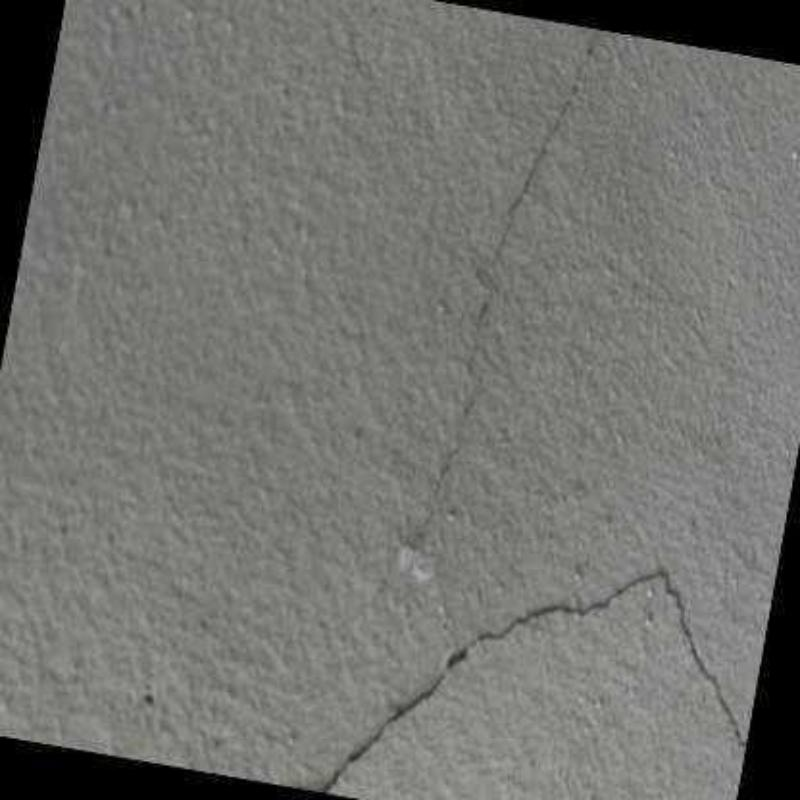pothole: (398, 29, 602, 558), (287, 562, 748, 794)
